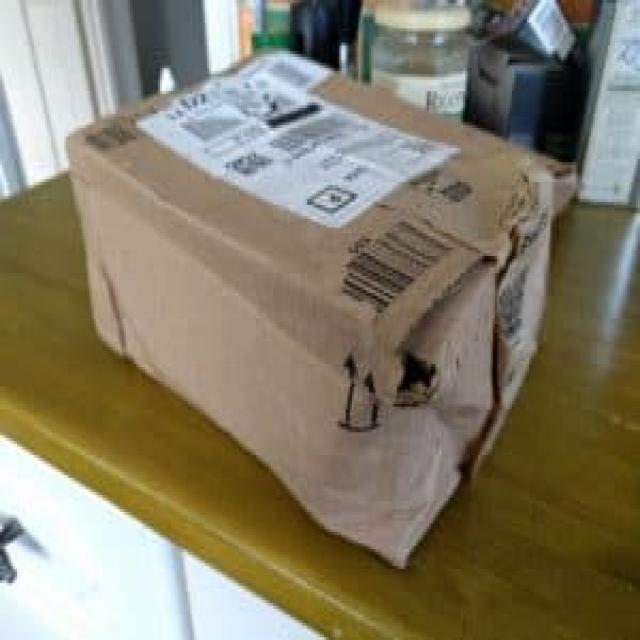hole: (392, 332, 439, 416)
